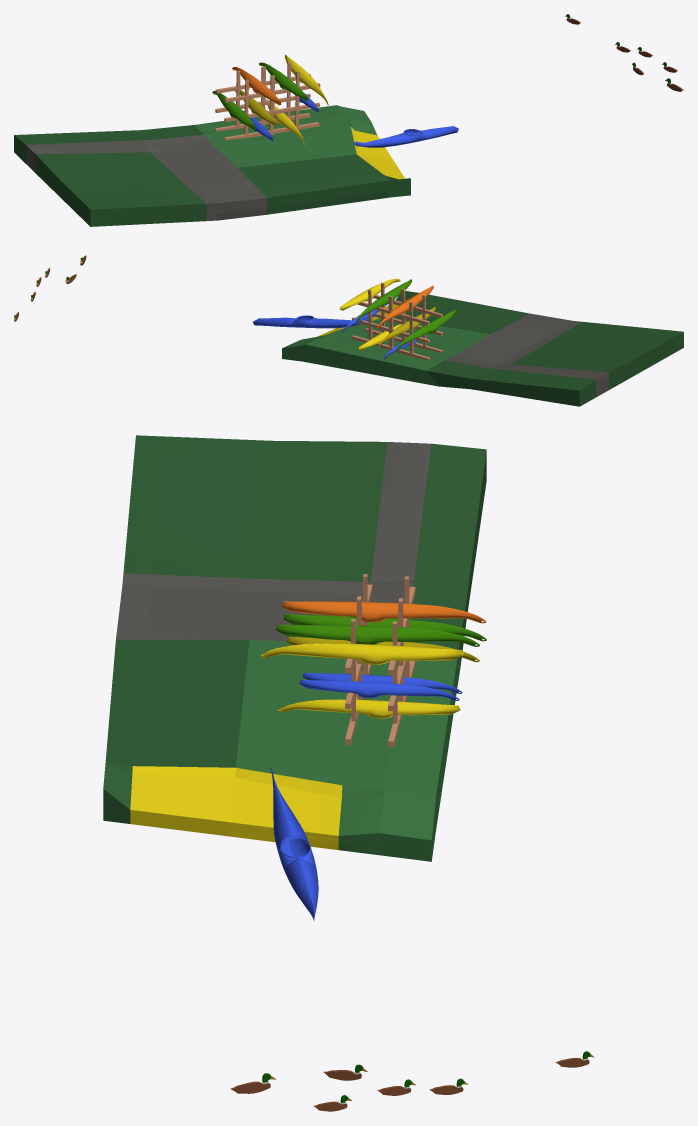
The model's file is intlittlemagothypark.glb.
3 views of the same model, one above another, from view 1: azimuth 30°, elevation 25°; view 2: azimuth 150°, elevation 25°; view 3: azimuth 270°, elevation 25° (orthographic). The views are drawn at different scales.
Visible parts, largest first — view 1: little_magothy_park_grass, little_magothy_kayak_rack, little_magothy_kayak_rack.001; view 2: little_magothy_park_grass, little_magothy_kayak_rack, little_magothy_kayak_rack.001; view 3: little_magothy_park_grass, little_magothy_kayak_rack, little_magothy_kayak_rack.001.
Boxes of the visible parts, x1,y1,x2,y2 form: little_magothy_park_grass: (14,105,410,226); little_magothy_kayak_rack: (212,54,328,144); little_magothy_kayak_rack.001: (353,126,458,147); little_magothy_park_grass: (282,291,683,406); little_magothy_kayak_rack: (339,278,456,360); little_magothy_kayak_rack.001: (253,315,372,328); little_magothy_park_grass: (103,435,486,861); little_magothy_kayak_rack: (260,574,486,747); little_magothy_kayak_rack.001: (271,767,318,920).
Size of the model in its own units: 0.3218 by 0.0438 by 0.1161.
